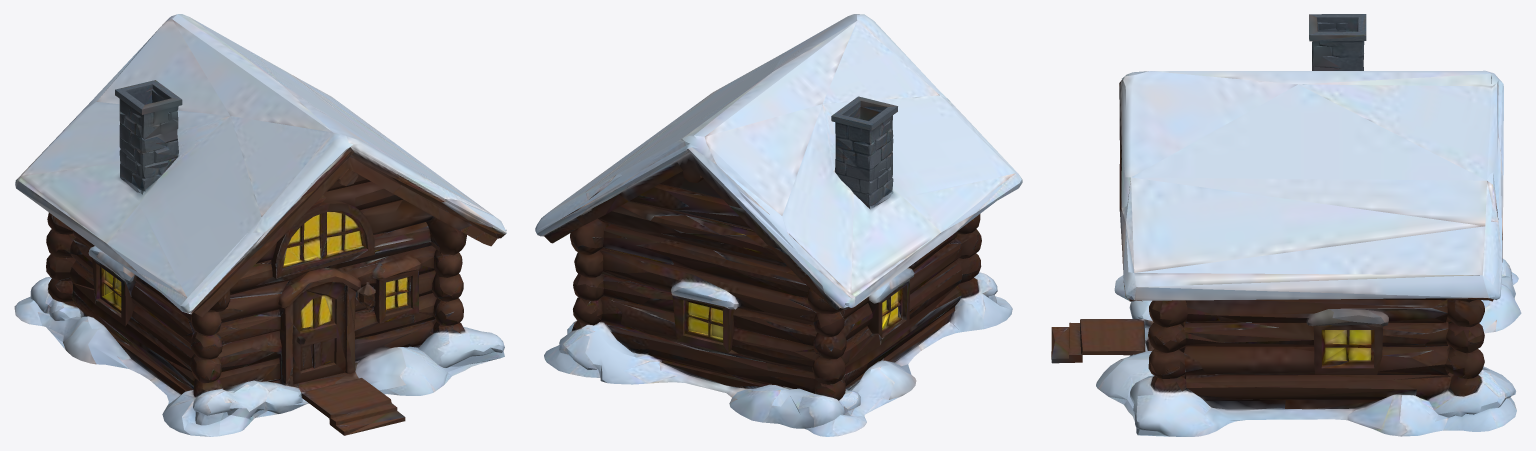
File: house.glb
3 renders of one model, left to right at view 1: azimuth 30°, elevation 25°; view 2: azimuth 150°, elevation 25°; view 3: azimuth 270°, elevation 25°, orthographic. The views are drawn at different scales.
Size of the model in its own units: 1.64 by 1.24 by 1.9.
1 material, 1 textured.
